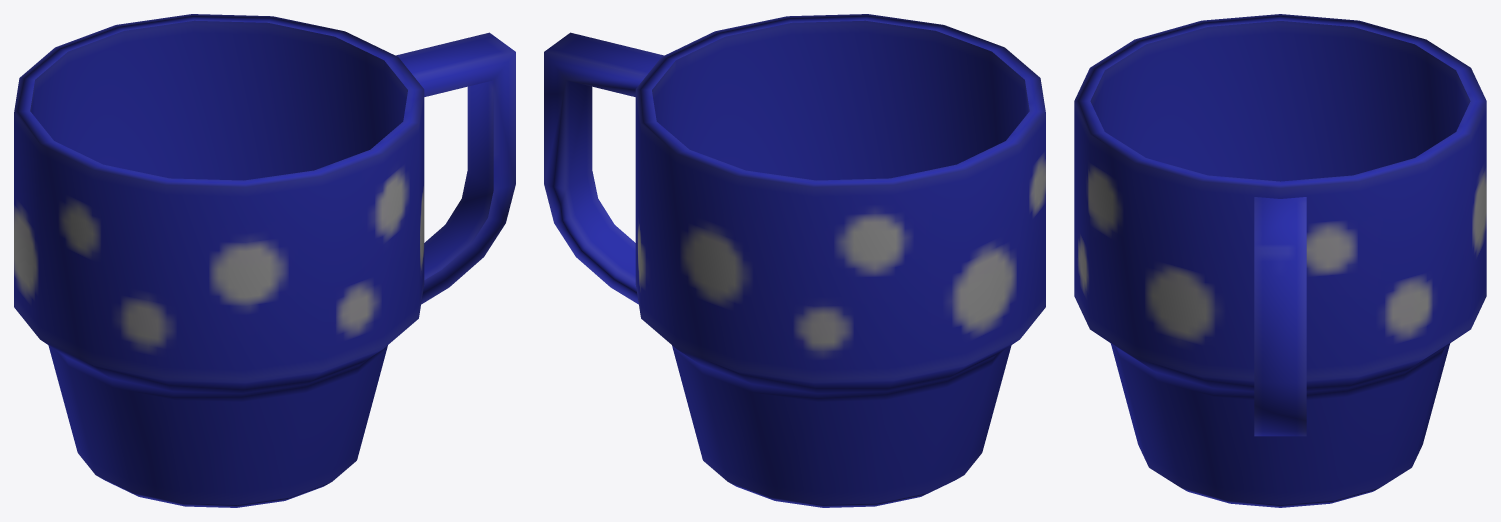
The model's file is pi_cup02_02.gltf.
3 views of the same model, side by side, from view 1: azimuth 30°, elevation 25°; view 2: azimuth 150°, elevation 25°; view 3: azimuth 270°, elevation 25° (orthographic).
Parts seen in each view (by area): view 1: pi_cup02_02_mesh_shape:pi_cup02_02_body01; view 2: pi_cup02_02_mesh_shape:pi_cup02_02_body01; view 3: pi_cup02_02_mesh_shape:pi_cup02_02_body01.
Boxes of the visible parts, bbox=[...] form: pi_cup02_02_mesh_shape:pi_cup02_02_body01: bbox=[14, 14, 515, 507]; pi_cup02_02_mesh_shape:pi_cup02_02_body01: bbox=[544, 14, 1045, 507]; pi_cup02_02_mesh_shape:pi_cup02_02_body01: bbox=[1074, 14, 1486, 507].
Size of what is drawn, in the model's own units: 0.1646 by 0.1197 by 0.1275.
Materials: 1 (1 with a texture image).
